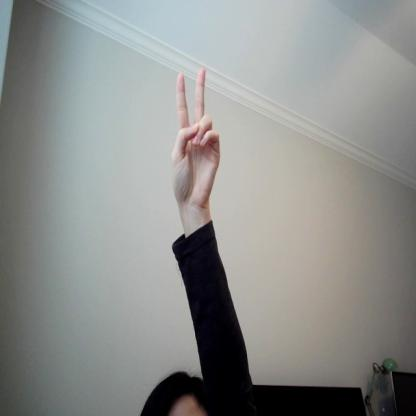two: (164, 62, 227, 212)
